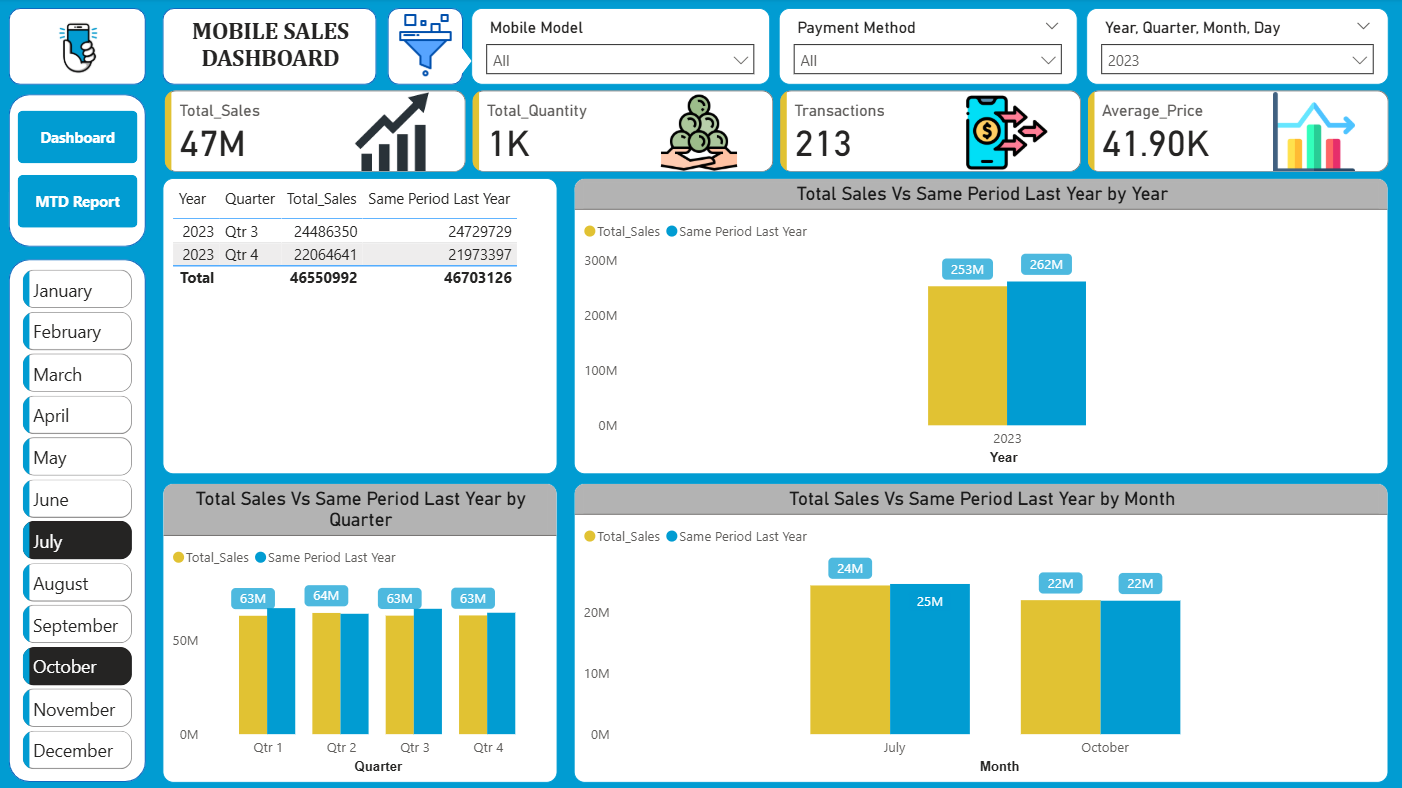

Layout of this report page (visuals, bound fields, positions):
{"tool":"powerbi","page":{"name":"Same Period Last Year","canvas":[1280,720],"ordinal":2},"visuals":[{"type":"shape","box":[8.1,9.3,124.4,69.8],"z":0},{"type":"image","box":[23.3,16.3,94.2,58.1],"z":1000},{"type":"shape","box":[8.1,87.2,124.4,138.4],"z":2000},{"type":"cardVisual","fields":{"Data":["Sales_Data.Total_Sales","Sales_Data.Total_Quantity","Sales_Data.Transactions","Sales_Data.Average_Price"]},"box":[132.6,67.4,1147.7,108.1],"z":3000},{"type":"slicer","fields":{"Values":["Sales_Data.Mobile Model"]},"box":[427.9,9.3,270.9,69.8],"z":4000},{"type":"slicer","fields":{"Values":["Sales_Data.Payment Method"]},"box":[707,9.3,270.9,69.8],"z":5000},{"type":"slicer","fields":{"Values":["Custom_Calendar.Date.Variation.Date Hierarchy.Year","Custom_Calendar.Date.Variation.Date Hierarchy.Quarter","Custom_Calendar.Date.Variation.Date Hierarchy.Month","Custom_Calendar.Date.Variation.Date Hierarchy.Day"]},"box":[986,9.3,274.4,69.8],"z":6000},{"type":"shape","box":[351.2,9.3,68.6,69.8],"z":7000},{"type":"shape","box":[407,43,20.9,27.9],"z":8000},{"type":"image","box":[350,14,70.9,58.1],"z":9000},{"type":"shape","box":[147.7,9.3,194.2,69.8],"z":10000},{"type":"textbox","box":[162.8,12.8,164,61.6],"z":11000},{"type":"shape","box":[8.1,237.2,124.4,474.4],"z":12000},{"type":"advancedSlicerVisual","fields":{"Values":["Custom_Calendar.Date.Variation.Date Hierarchy.Month"]},"box":[16.3,241.9,109.3,464],"z":13000},{"type":"tableEx","fields":{"Values":["Custom_Calendar.Date.Variation.Date Hierarchy.Year","Custom_Calendar.Date.Variation.Date Hierarchy.Quarter","Sales_Data.Total_Sales","Sales_Data.Same Period Last Year"]},"box":[147.7,162.8,358.1,268.6],"z":14000},{"type":"clusteredColumnChart","title":"Total Sales Vs Same Period Last Year by Year","fields":{"Category":["Custom_Calendar.Date.Variation.Date Hierarchy.Year","Custom_Calendar.Date.Variation.Date Hierarchy.Quarter"],"Y":["Sales_Data.Total_Sales","Sales_Data.Same Period Last Year"]},"box":[520.9,162.8,739.5,268.6],"z":15000},{"type":"clusteredColumnChart","title":"Total Sales Vs Same Period Last Year by Quarter","fields":{"Category":["Custom_Calendar.Date.Variation.Date Hierarchy.Year","Custom_Calendar.Date.Variation.Date Hierarchy.Quarter"],"Y":["Sales_Data.Total_Sales","Sales_Data.Same Period Last Year"]},"box":[147.7,439.5,358.1,272.1],"z":16000},{"type":"clusteredColumnChart","title":"Total Sales Vs Same Period Last Year by Month","fields":{"Y":["Sales_Data.Total_Sales","Sales_Data.Same Period Last Year"],"Category":["Custom_Calendar.Date.Variation.Date Hierarchy.Month","Custom_Calendar.Date.Variation.Date Hierarchy.Day"]},"box":[520.9,439.5,739.5,272.1],"z":17000},{"type":"pageNavigator","box":[16.3,102.3,109.3,107],"z":18000}]}

Visuals, with their boxes in screenshot pixels (x1, y1, x2, y2), scaled from the page's 1280x720 canvas onto the 1402x788 screenshot:
shape: 9 10 145 87
image: 26 18 129 81
shape: 9 95 145 247
cardVisual - Sales_Data.Total_Sales x Sales_Data.Total_Quantity: 145 74 1401 192
slicer - Sales_Data.Mobile Model: 469 10 765 87
slicer - Sales_Data.Payment Method: 774 10 1071 87
slicer - Custom_Calendar.Date.Variation.Date Hierarchy.Year x Custom_Calendar.Date.Variation.Date Hierarchy.Quarter: 1080 10 1381 87
shape: 385 10 460 87
shape: 446 47 469 78
image: 383 15 461 79
shape: 162 10 374 87
textbox: 178 14 358 81
shape: 9 260 145 779
advancedSlicerVisual - Custom_Calendar.Date.Variation.Date Hierarchy.Month: 18 265 138 773
tableEx - Custom_Calendar.Date.Variation.Date Hierarchy.Year x Custom_Calendar.Date.Variation.Date Hierarchy.Quarter: 162 178 554 472
"Total Sales Vs Same Period Last Year by Year" clusteredColumnChart: 571 178 1381 472
"Total Sales Vs Same Period Last Year by Quarter" clusteredColumnChart: 162 481 554 779
"Total Sales Vs Same Period Last Year by Month" clusteredColumnChart: 571 481 1381 779
pageNavigator: 18 112 138 229
